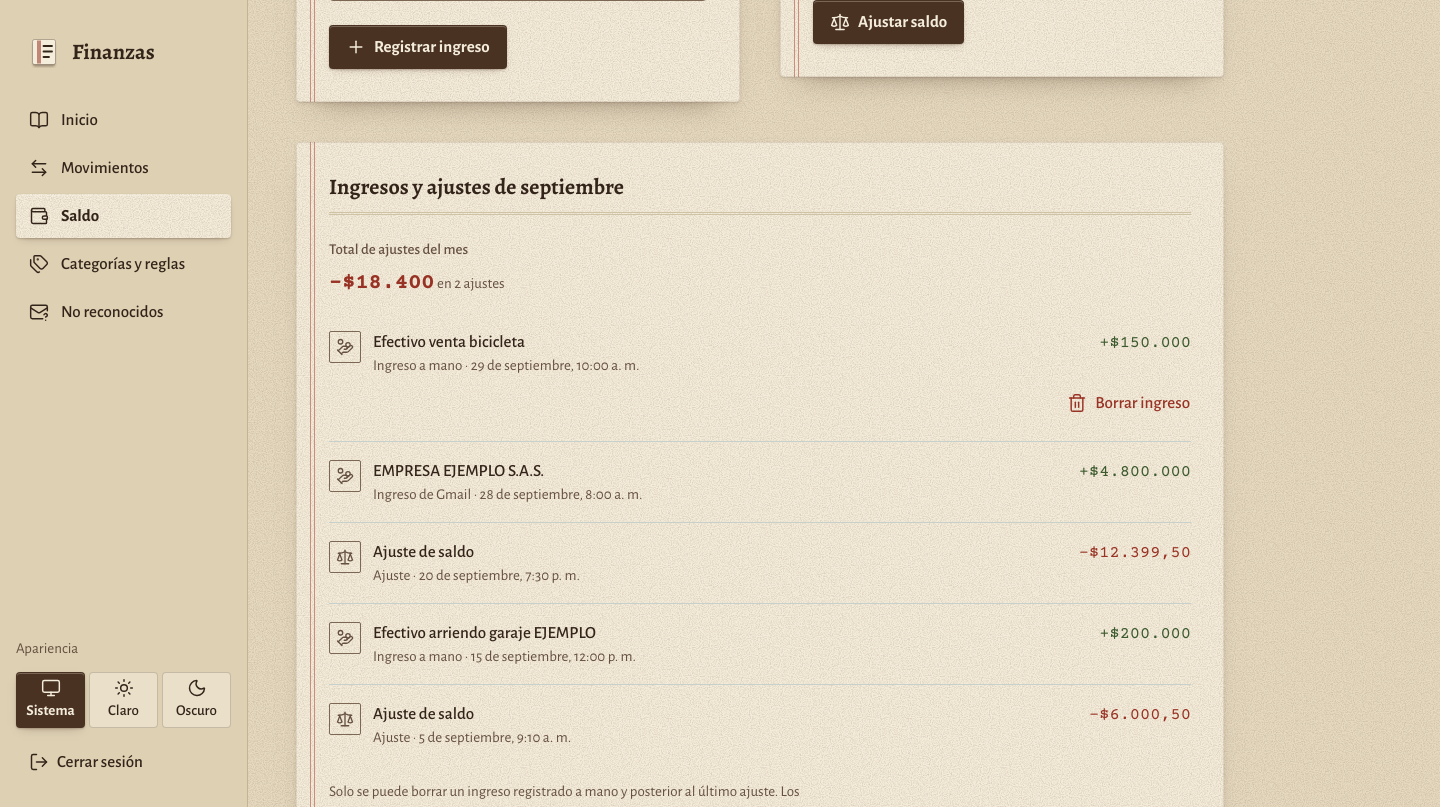
Test: Saldo › un 409 al deshacer muestra el motivo de la API
(page scrolled)
Click the button named "Borrar ingreso Efectivo venta bicicleta".
click(1129, 403)  # box [1054,381,1203,425]
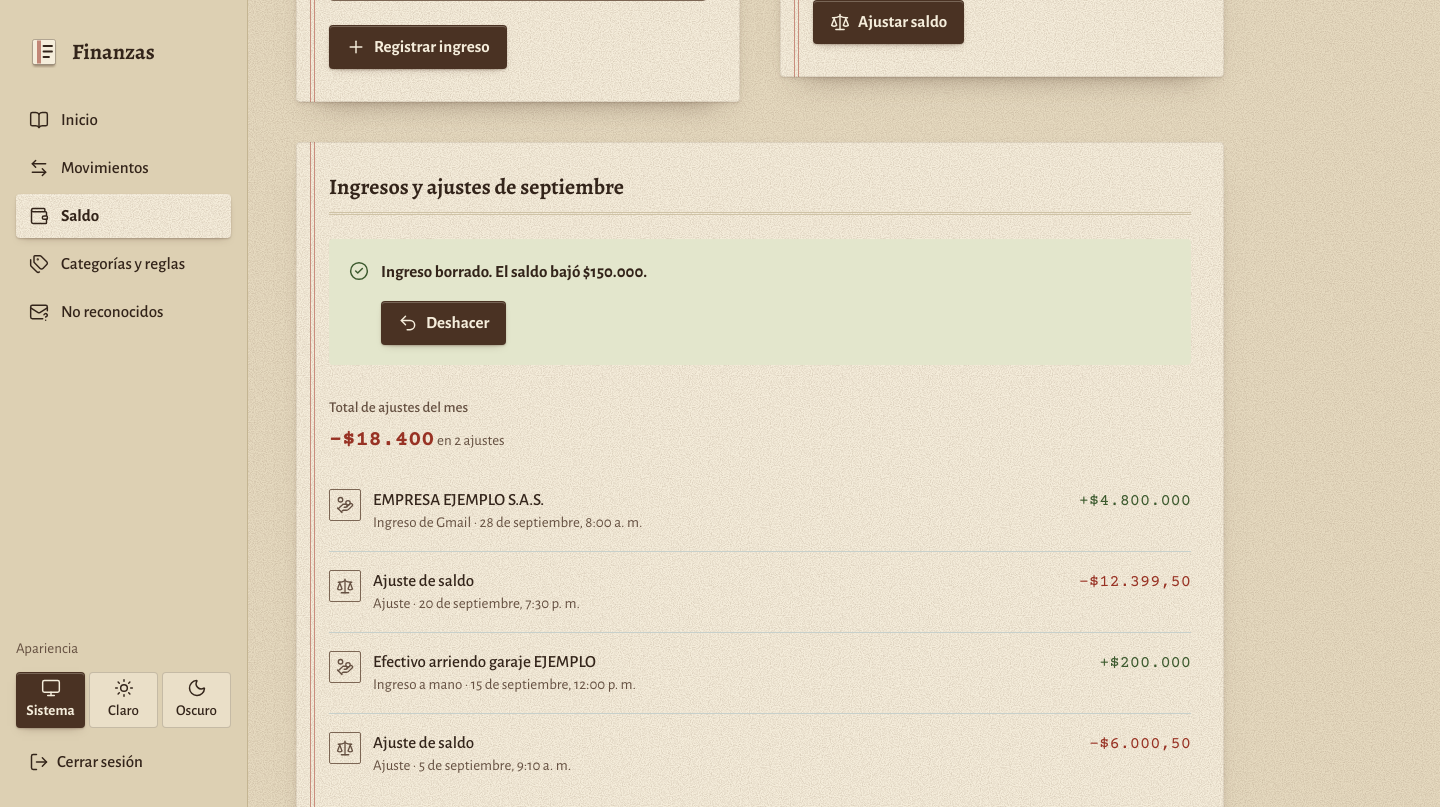
Click the button "Deshacer".
click(444, 323)  # box [381,301,506,345]
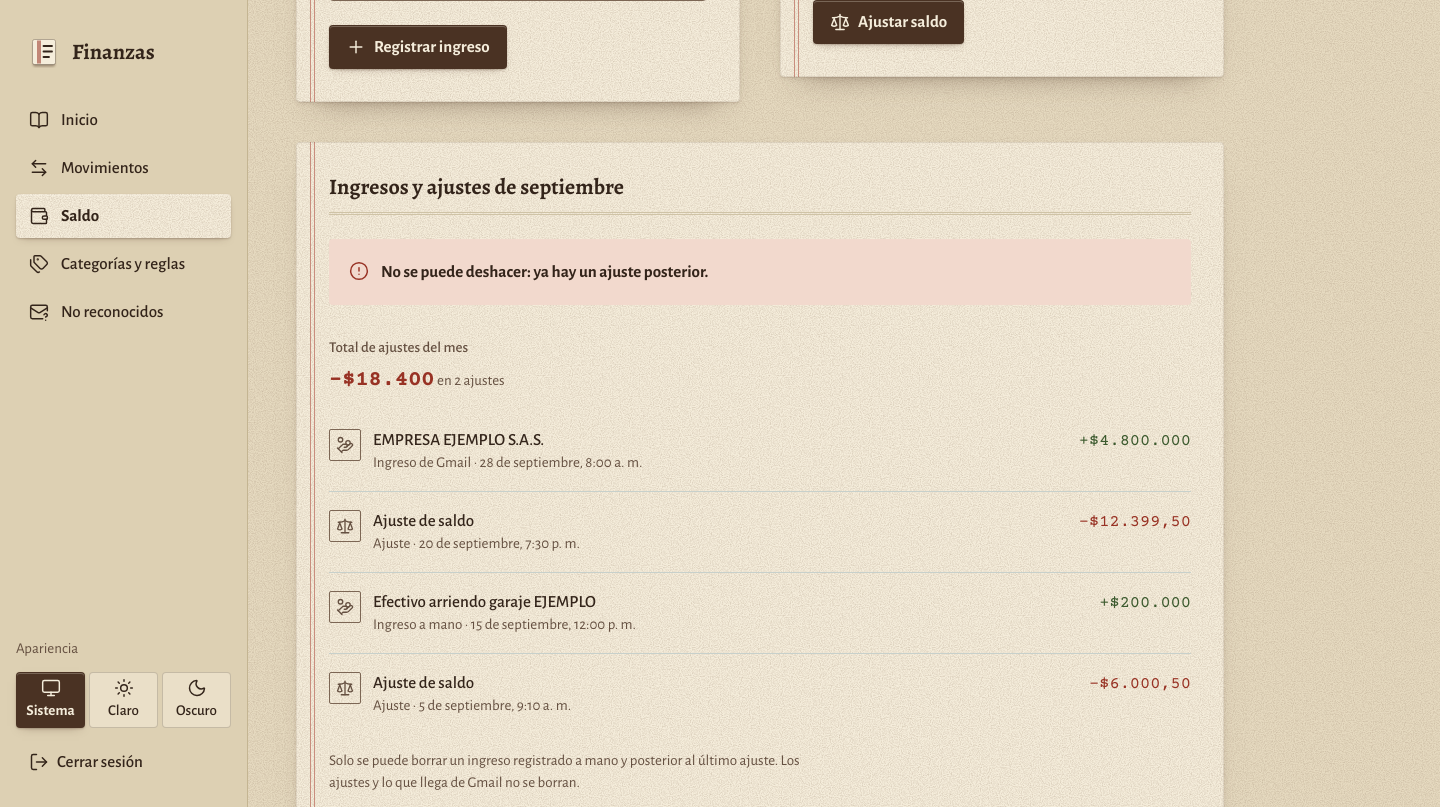
Now the message reads "No se puede deshacer: ya hay un ajuste posterior.", box [381,263,708,280]
